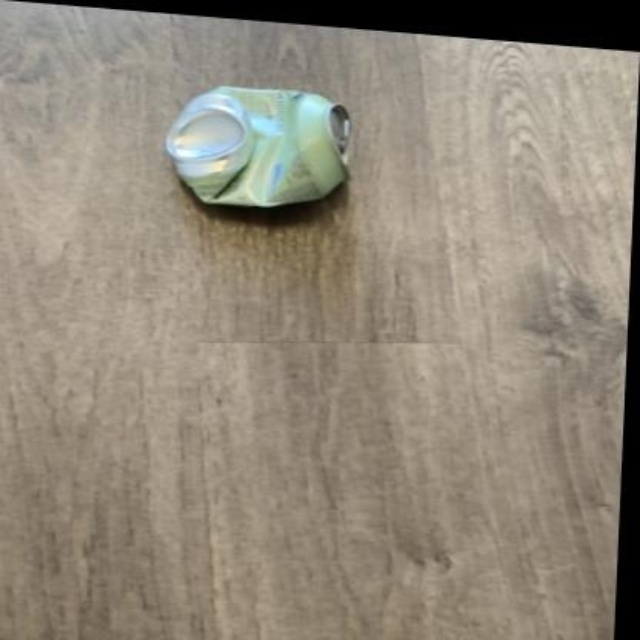trash: (166, 86, 349, 206)
